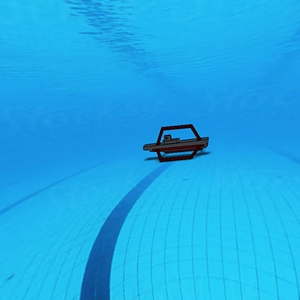submarine: (144, 123, 211, 163)
